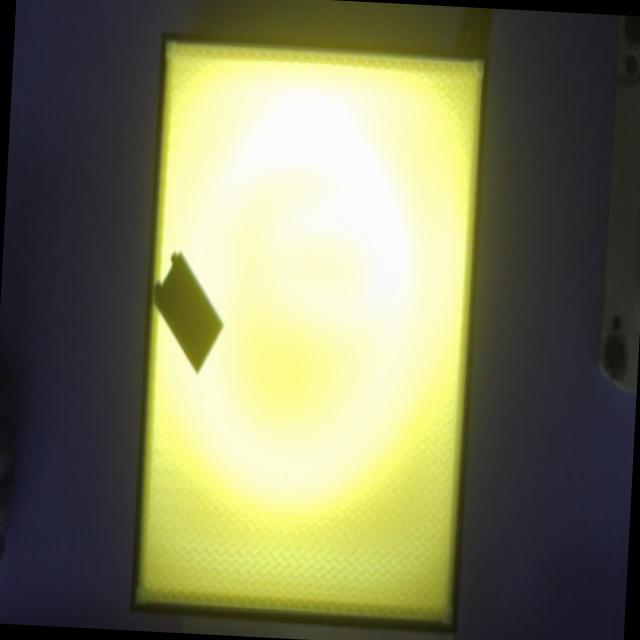bateria: (151, 250, 224, 376)
mesa: (130, 34, 490, 634)
